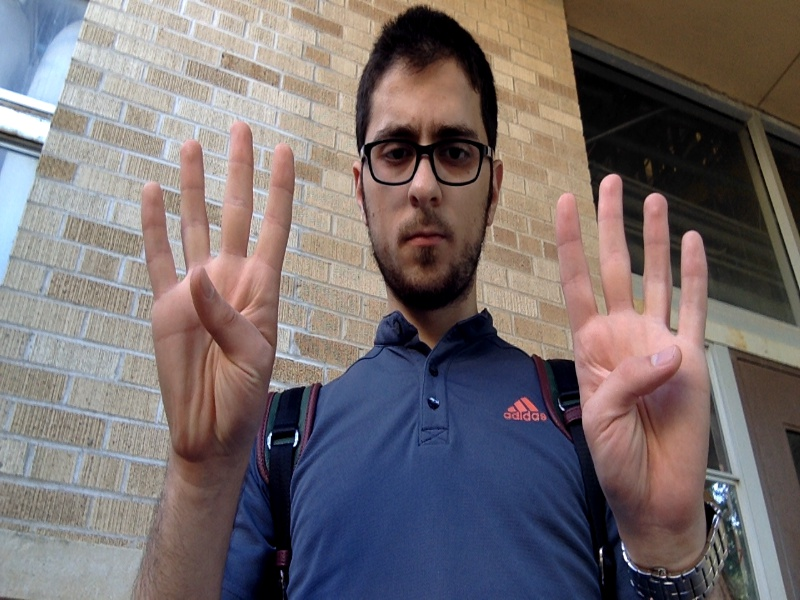4-hand: (554, 173, 708, 530), (141, 124, 295, 470)
